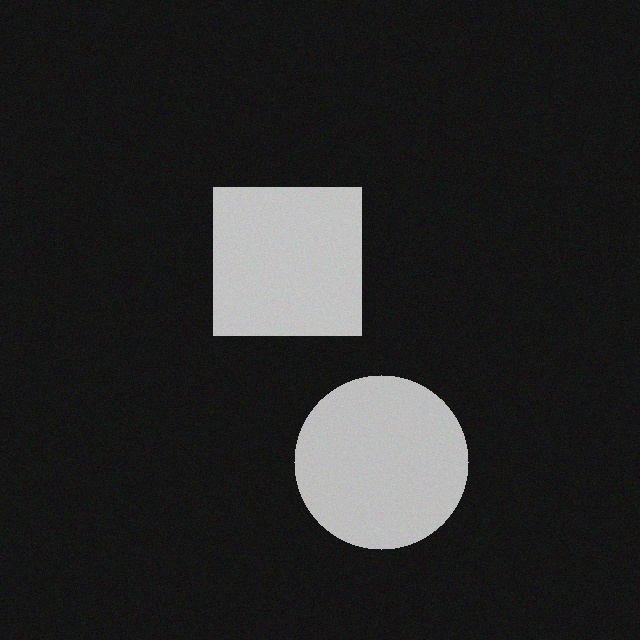circle: (308, 367, 482, 541)
square: (227, 179, 375, 327)
